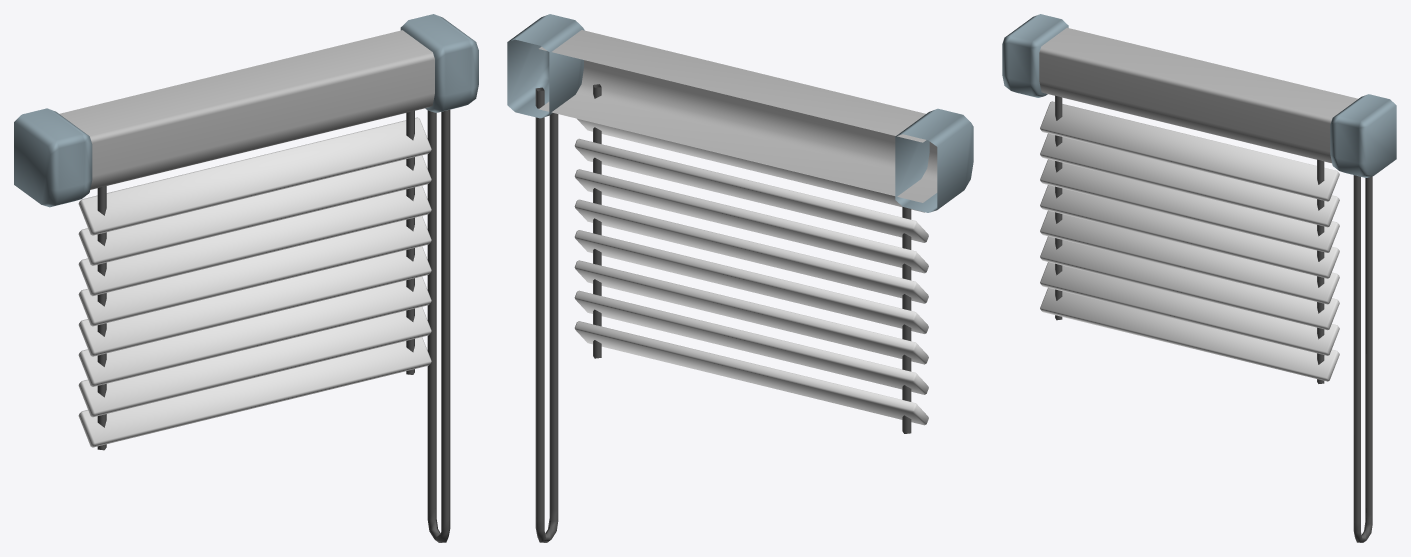
File: curtain_013.fbx
The picture shows the model from 3 angles, left to right: view 1: azimuth 30°, elevation 25°; view 2: azimuth 150°, elevation 25°; view 3: azimuth 330°, elevation 25°; orthographic projection. The views are drawn at different scales.
Visible parts, largest first — view 1: curtain_013; view 2: curtain_013; view 3: curtain_013.
Boxes of the visible parts, <box> form: curtain_013: <box>14,14,478,542</box>; curtain_013: <box>507,14,973,542</box>; curtain_013: <box>1002,14,1396,542</box>.
Bounding box in the file's own units: 200 × 30.34 × 229.
